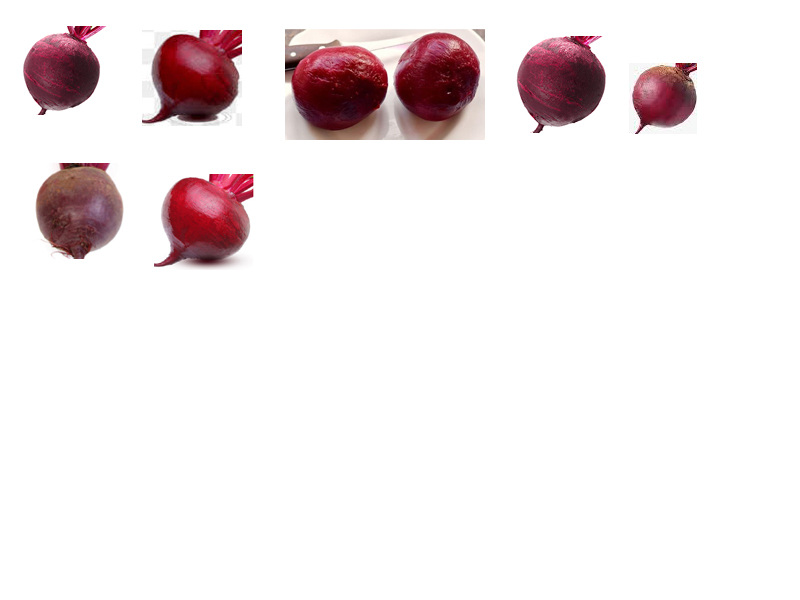beet: (157, 167, 259, 271), (29, 155, 128, 261), (138, 27, 243, 123), (513, 30, 608, 130), (289, 43, 388, 134), (18, 24, 108, 115), (393, 32, 482, 122), (627, 58, 697, 133)
